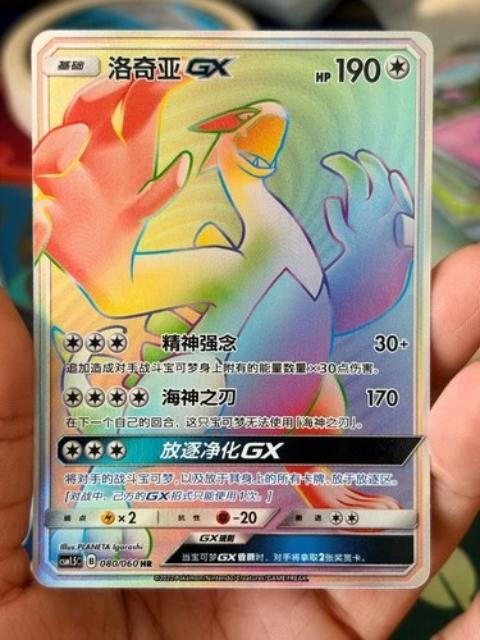Card: (25, 26, 437, 593)
Name: (102, 51, 246, 85)
